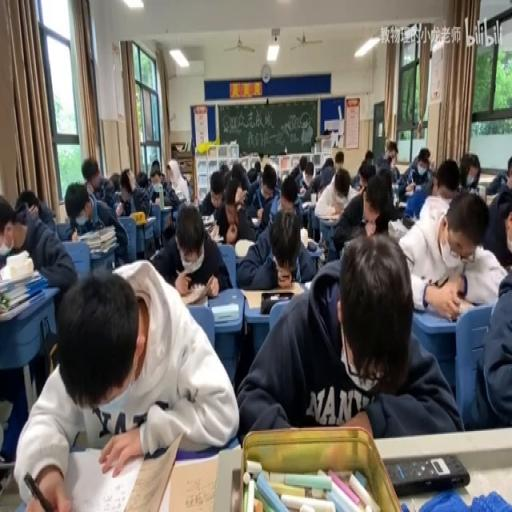calculator: (166, 451, 222, 512), (240, 284, 303, 308), (210, 300, 238, 322), (303, 240, 325, 263), (233, 236, 254, 256), (388, 218, 406, 240), (185, 296, 209, 308), (485, 189, 501, 205), (202, 218, 216, 234), (0, 240, 11, 258), (318, 212, 341, 220), (475, 184, 485, 199), (174, 188, 185, 200), (300, 199, 314, 208), (142, 216, 156, 225), (250, 214, 261, 224), (302, 278, 312, 288), (405, 182, 414, 193), (212, 235, 222, 243), (298, 186, 306, 195), (398, 199, 406, 206)
paper: (16, 258, 238, 506), (235, 233, 456, 438), (398, 186, 506, 316), (1, 190, 77, 313), (150, 200, 228, 294), (235, 202, 316, 290), (331, 168, 397, 260), (65, 176, 128, 268), (124, 166, 157, 249), (397, 146, 434, 204), (198, 170, 230, 220), (245, 161, 273, 209), (306, 155, 334, 198), (484, 155, 511, 196), (434, 156, 460, 195), (458, 151, 480, 192), (146, 158, 168, 195), (229, 162, 250, 196), (279, 174, 298, 204), (165, 159, 181, 191), (375, 150, 394, 176), (334, 171, 350, 199), (358, 162, 374, 189), (380, 169, 394, 199), (120, 169, 134, 195), (109, 172, 121, 192), (155, 191, 171, 206), (258, 150, 270, 170), (136, 171, 149, 189), (298, 154, 308, 172), (420, 148, 430, 165), (334, 150, 344, 164), (293, 171, 302, 186), (363, 149, 373, 162), (219, 163, 229, 175), (253, 160, 260, 170), (322, 128, 330, 134)
person: (386, 452, 470, 494), (230, 468, 242, 510), (402, 214, 416, 228)
